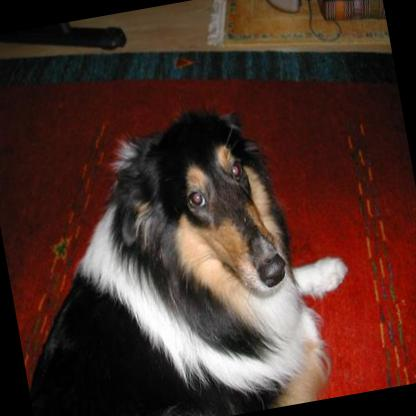collie: (0, 79, 368, 416)
